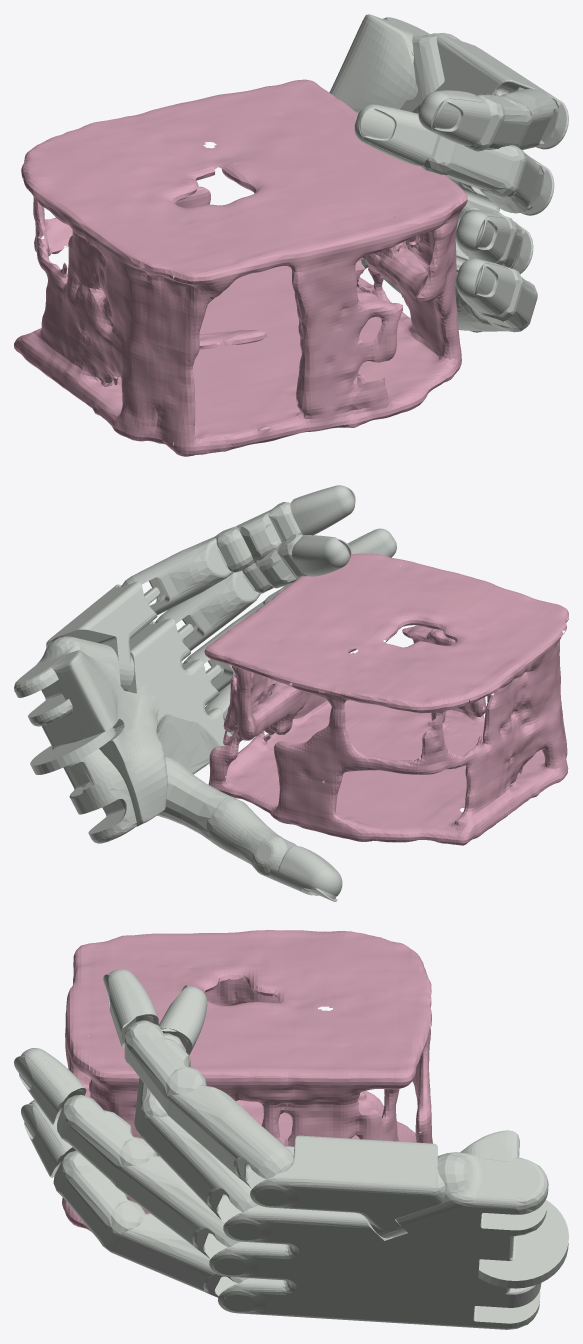
The picture shows the model from 3 angles, top to bottom: view 1: azimuth 30°, elevation 25°; view 2: azimuth 150°, elevation 25°; view 3: azimuth 270°, elevation 25°; orthographic projection. The views are drawn at different scales.
Parts seen in each view (by area): view 1: world, hand_isaac_q; view 2: world, hand_isaac_q; view 3: hand_isaac_q, world.
Part boxes in pixels (left/top/right/bottom): world: left=14, top=79, right=467, bottom=456; hand_isaac_q: left=329, top=14, right=568, bottom=332; world: left=204, top=553, right=568, bottom=845; hand_isaac_q: left=14, top=485, right=396, bottom=901; hand_isaac_q: left=14, top=969, right=568, bottom=1329; world: left=62, top=930, right=432, bottom=1231.
Size of the model in its own units: 0.1999 by 0.1287 by 0.1954.
